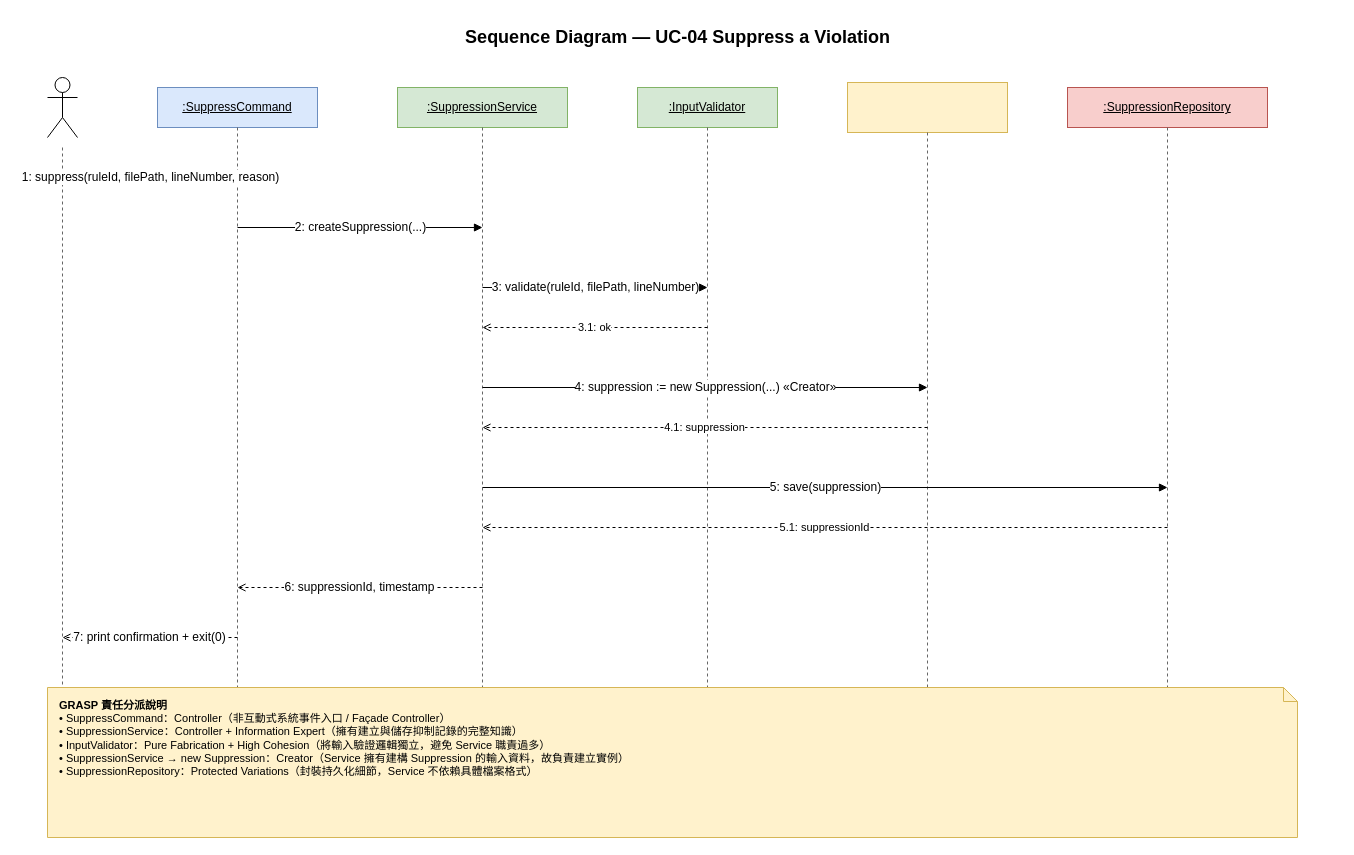
This 1354x855 diagram has some shape labels left out. Each missing label, with the box of its shape:
:Suppression (class / factory): (846, 82, 1008, 132)
Developer: (46, 76, 78, 138)
